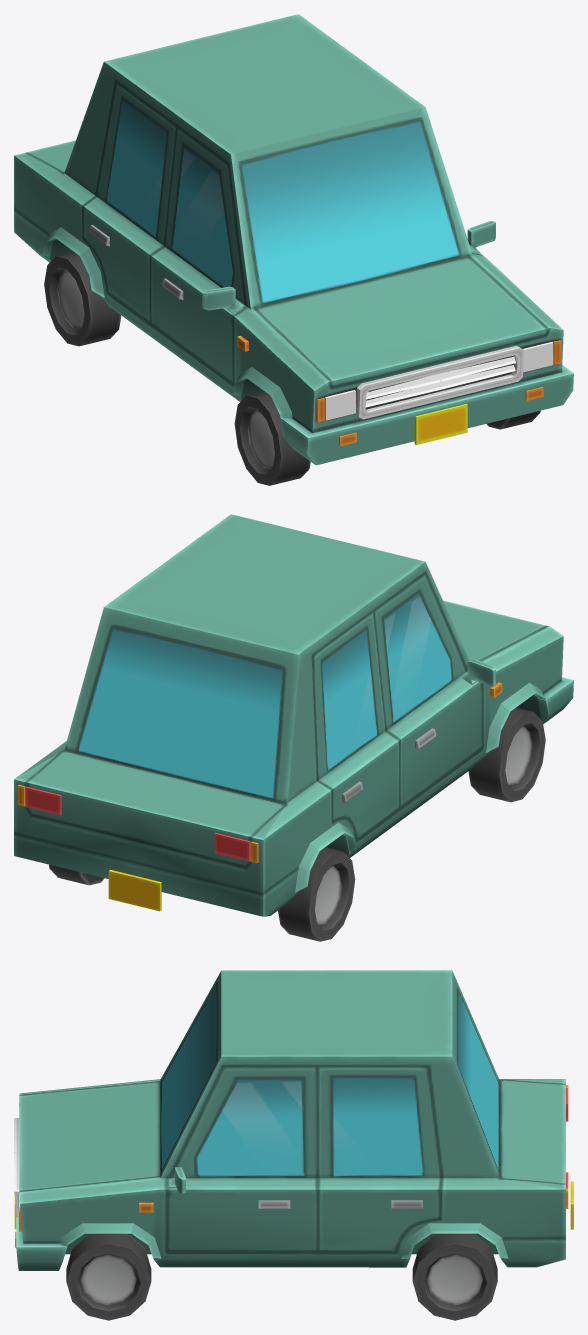
Rendered from car blue.fbx.
The picture shows the model from 3 angles, top to bottom: view 1: azimuth 30°, elevation 25°; view 2: azimuth 150°, elevation 25°; view 3: azimuth 270°, elevation 25°; orthographic projection. The views are drawn at different scales.
Parts seen in each view (by area): view 1: Car Blue, WheelBR Car blue, WheerFR Car blue; view 2: Car Blue, WheelBR Car blue, WheerFR Car blue, WheerBL Car blue; view 3: Car Blue, WheerFL Car blue, WheerBL Car blue.
Part boxes in pixels (<box>): Car Blue: <box>14,14,573,465</box>; WheelBR Car blue: <box>44,252,121,346</box>; WheerFR Car blue: <box>234,391,310,485</box>; Car Blue: <box>14,514,573,916</box>; WheelBR Car blue: <box>278,847,355,941</box>; WheerFR Car blue: <box>468,707,545,802</box>; WheerBL Car blue: <box>49,864,104,885</box>; Car Blue: <box>14,970,573,1270</box>; WheerFL Car blue: <box>66,1233,151,1320</box>; WheerBL Car blue: <box>412,1233,497,1320</box>.
Size of the model in its own units: 79.52 by 71.32 by 145.
